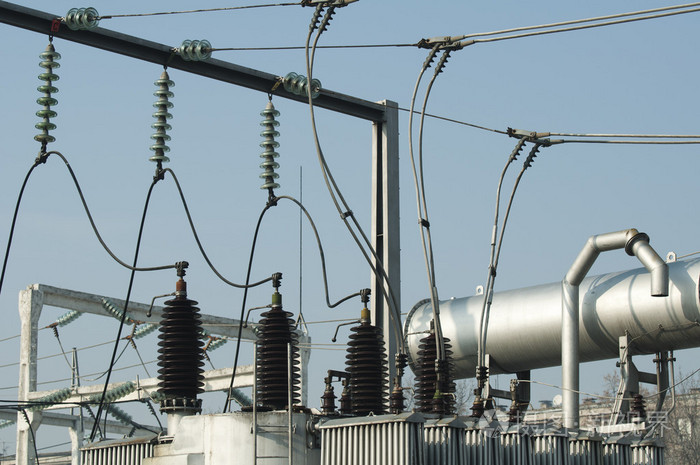insulator: (147, 78, 177, 165), (34, 51, 61, 144), (259, 106, 282, 191), (282, 70, 321, 100), (64, 8, 100, 31), (179, 40, 212, 63)
